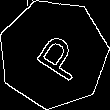P_NW: (22, 24, 85, 83)
